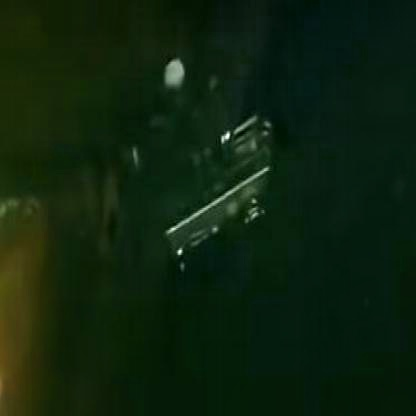electronics: (131, 111, 302, 275)
